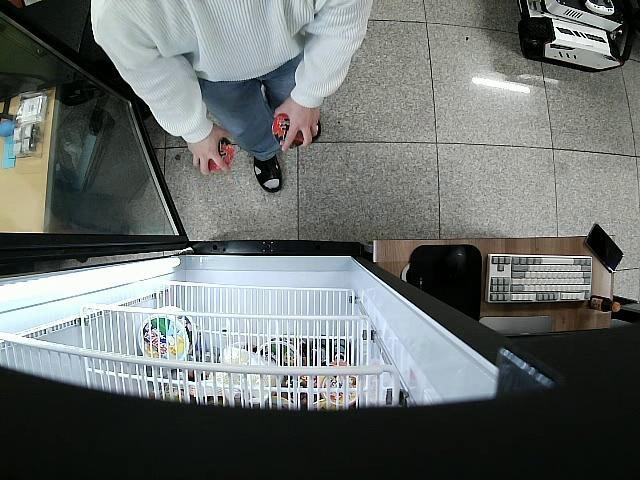02_shinRamen_S: (272, 112, 306, 146), (207, 138, 235, 172)
